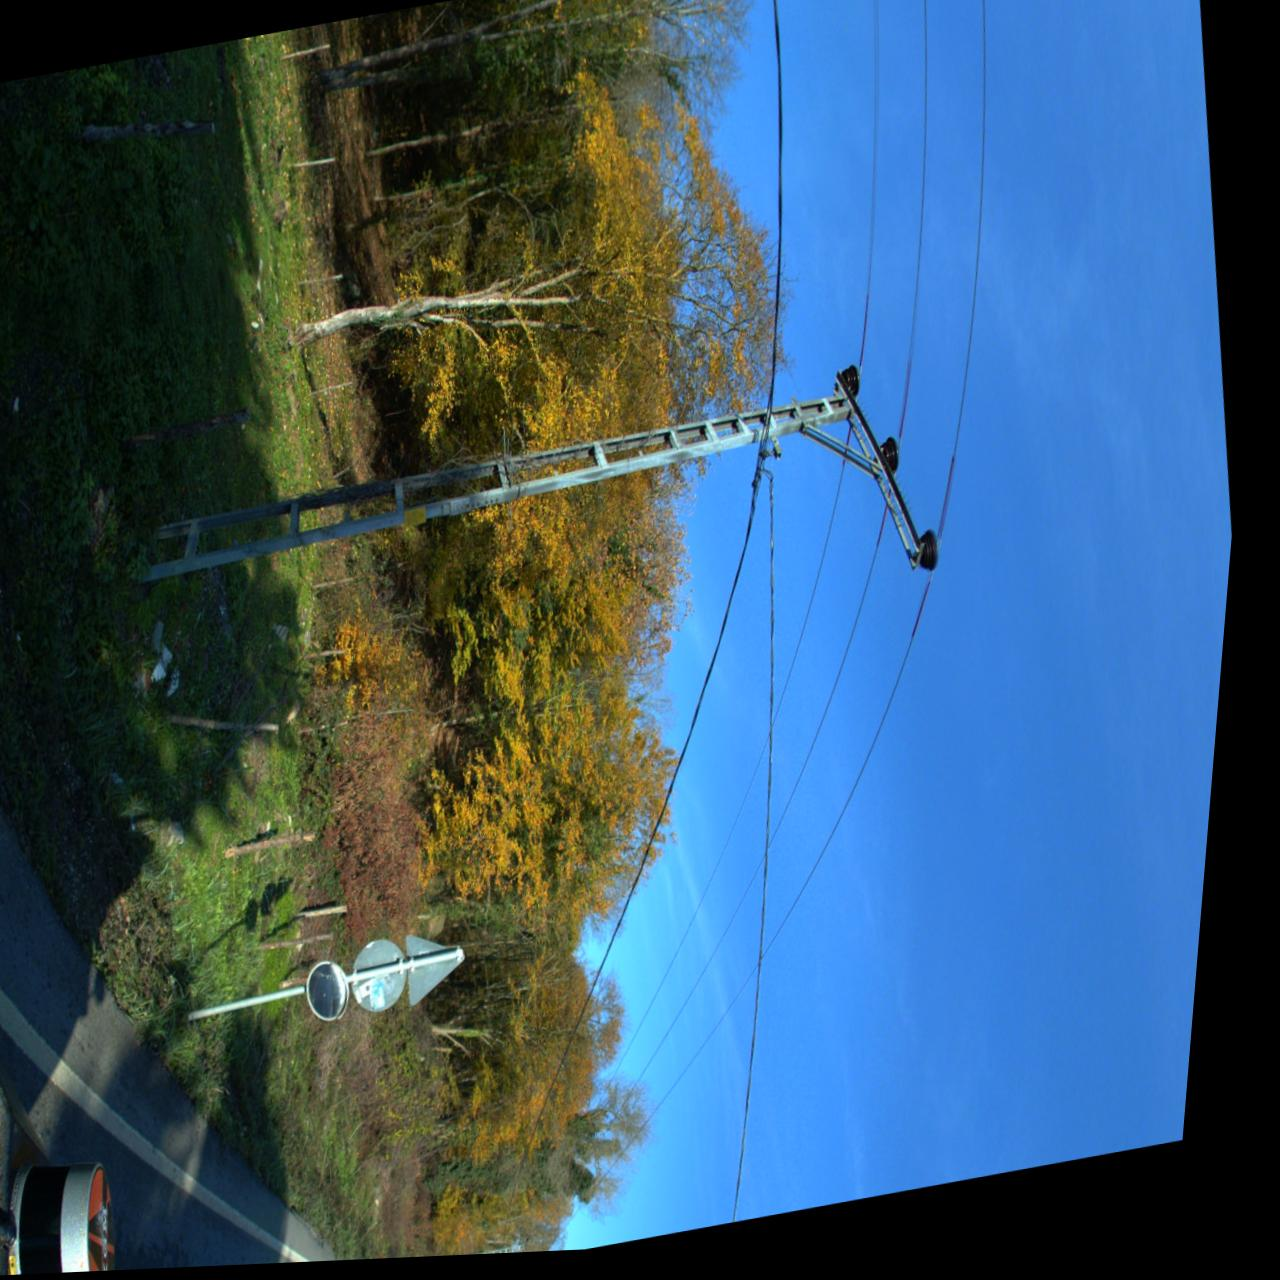Utility Pole Information Plate: (411, 510, 434, 535), (458, 503, 477, 522)
